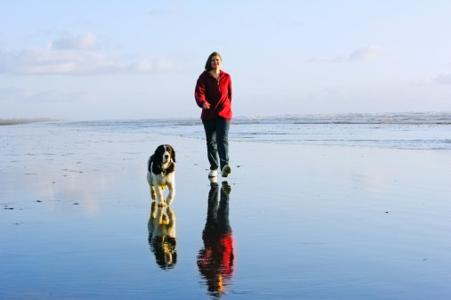person: (195, 52, 234, 179)
